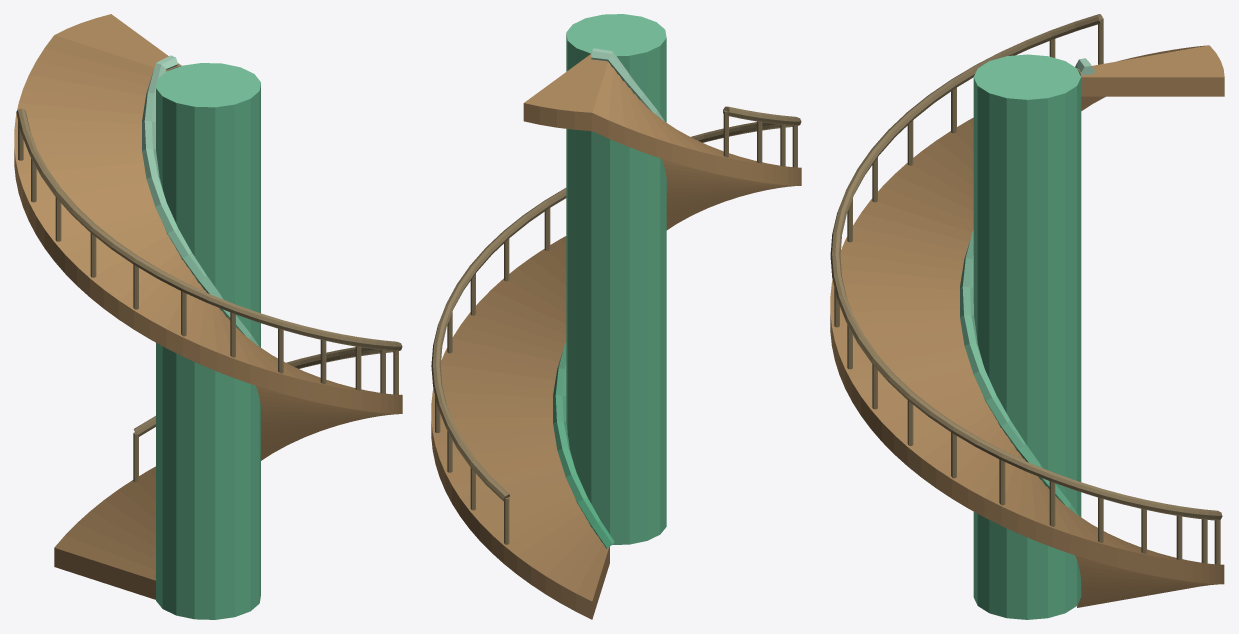
The model's file is goo_jar_stair.fbx.
3 renders of one model, left to right at view 1: azimuth 30°, elevation 25°; view 2: azimuth 150°, elevation 25°; view 3: azimuth 270°, elevation 25°, orthographic. The views are drawn at different scales.
Visible parts, largest first — view 1: goo_jar_stair; view 2: goo_jar_stair; view 3: goo_jar_stair.
Boxes of the visible parts, x1,y1,x2,y2 form: goo_jar_stair: (14,14,402,619); goo_jar_stair: (431,14,801,619); goo_jar_stair: (830,14,1224,619).
Size of the model in its own units: 10.99 by 16.85 by 10.99.
